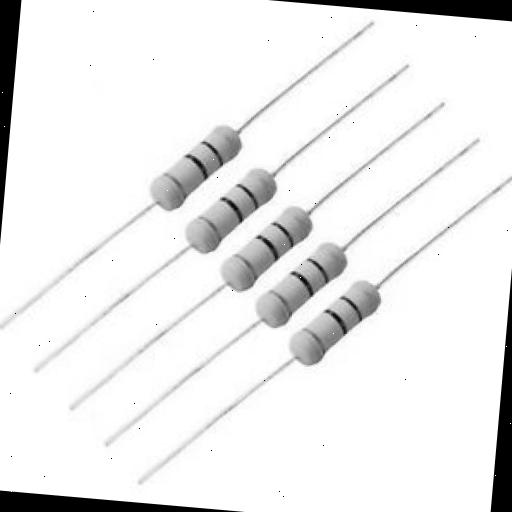RESISTOR: (271, 256, 406, 402), (233, 221, 364, 356), (119, 104, 251, 237), (176, 154, 291, 270), (186, 197, 326, 287)
